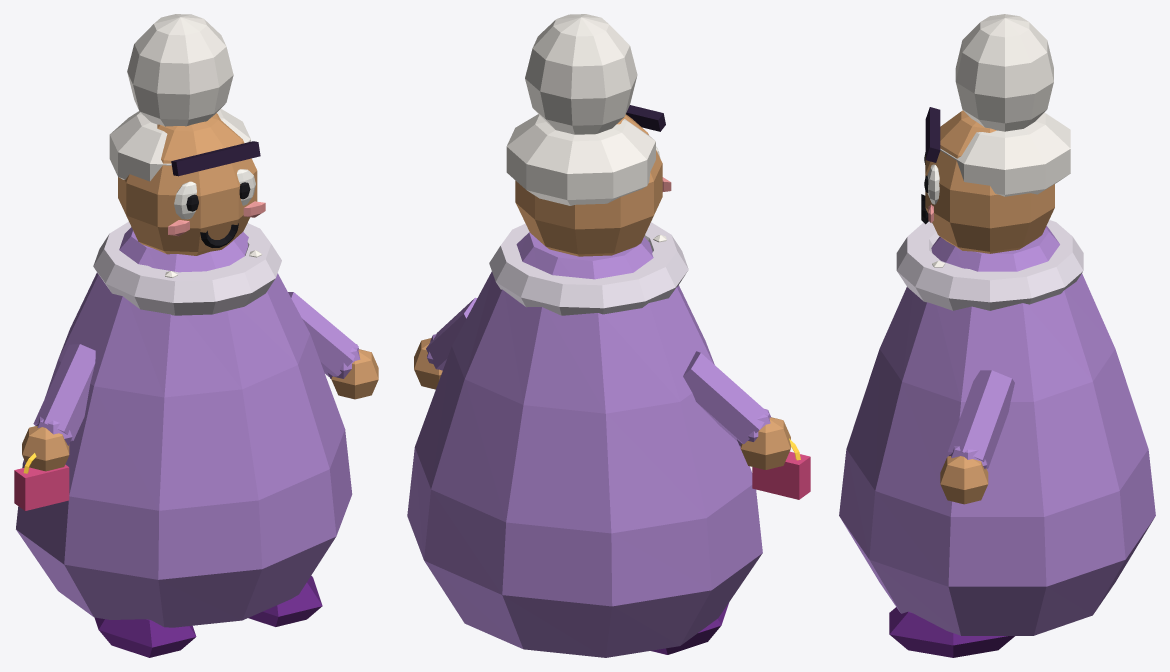
File: npc_senora.glb
3 renders of one model, left to right at view 1: azimuth 30°, elevation 25°; view 2: azimuth 150°, elevation 25°; view 3: azimuth 270°, elevation 25°, orthographic. The views are drawn at different scales.
Parts seen in each view (by area): view 1: body_fur_coat, head_hair_white, head_skin_arena, body_coat_fur, arms_fur_coat, legs_heels, arms_skin_arena, props_tiny_bag, head_sunglasses_up, face_white, face_black; view 2: body_fur_coat, head_hair_white, body_coat_fur, head_skin_arena, arms_fur_coat, arms_skin_arena, props_tiny_bag, legs_heels, head_sunglasses_up; view 3: body_fur_coat, head_hair_white, head_skin_arena, body_coat_fur, arms_fur_coat, legs_heels, arms_skin_arena, head_sunglasses_up.
Part boxes in pixels (box(x1,y1,x2,y2)): body_fur_coat: box(16, 227, 352, 627); head_hair_white: box(109, 14, 250, 181); head_skin_arena: box(118, 113, 257, 255); body_coat_fur: box(93, 221, 281, 315); arms_fur_coat: box(33, 292, 360, 445); legs_heels: box(94, 575, 322, 657); arms_skin_arena: box(22, 349, 378, 471); props_tiny_bag: box(14, 464, 69, 510); head_sunglasses_up: box(171, 141, 260, 176); face_white: box(174, 169, 255, 219); face_black: box(186, 182, 250, 247); body_fur_coat: box(407, 232, 762, 657); head_hair_white: box(506, 14, 655, 205); body_coat_fur: box(489, 222, 688, 315); head_skin_arena: box(515, 114, 662, 256); arms_fur_coat: box(426, 297, 770, 446); arms_skin_arena: box(414, 338, 790, 469); props_tiny_bag: box(752, 451, 810, 499); legs_heels: box(651, 603, 728, 654); head_sunglasses_up: box(626, 105, 665, 131); body_fur_coat: box(839, 226, 1155, 635); head_hair_white: box(940, 14, 1070, 196); head_skin_arena: box(925, 110, 1054, 253); body_coat_fur: box(896, 220, 1083, 310); arms_fur_coat: box(948, 370, 1014, 469); legs_heels: box(889, 607, 1014, 657); arms_skin_arena: box(940, 456, 988, 504); head_sunglasses_up: box(925, 107, 940, 162).
Bounding box in the file's own units: 1.15 × 1.8 × 0.86.
